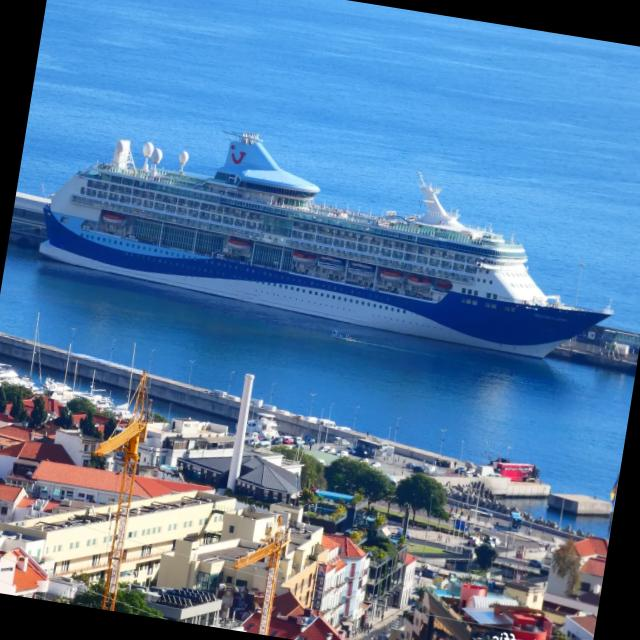Cruise: (40, 134, 613, 358)
